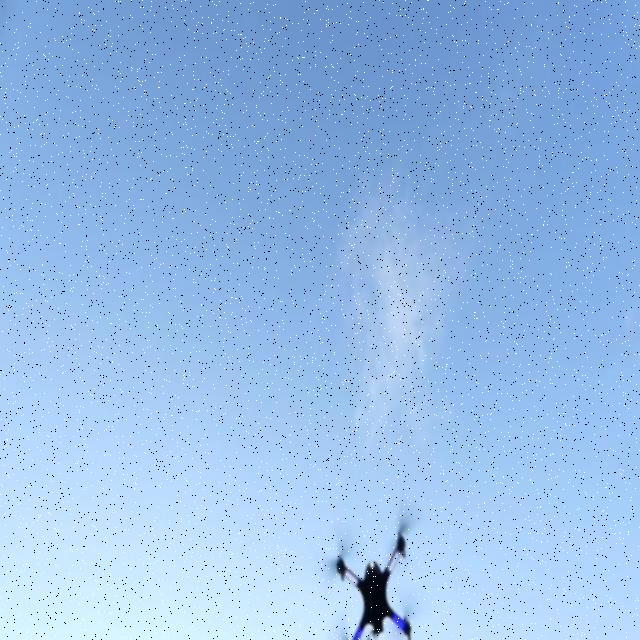UAV: (329, 514, 415, 640)
